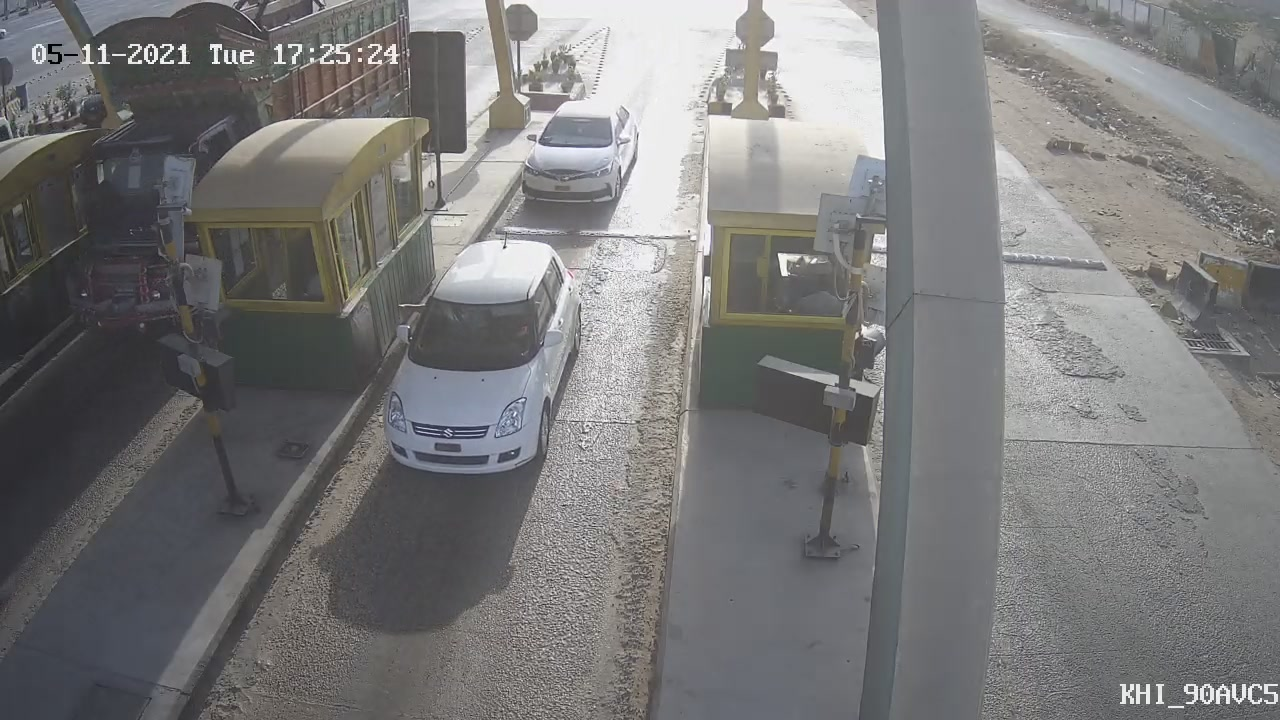F1: (348, 214, 605, 500), (501, 83, 661, 221)
